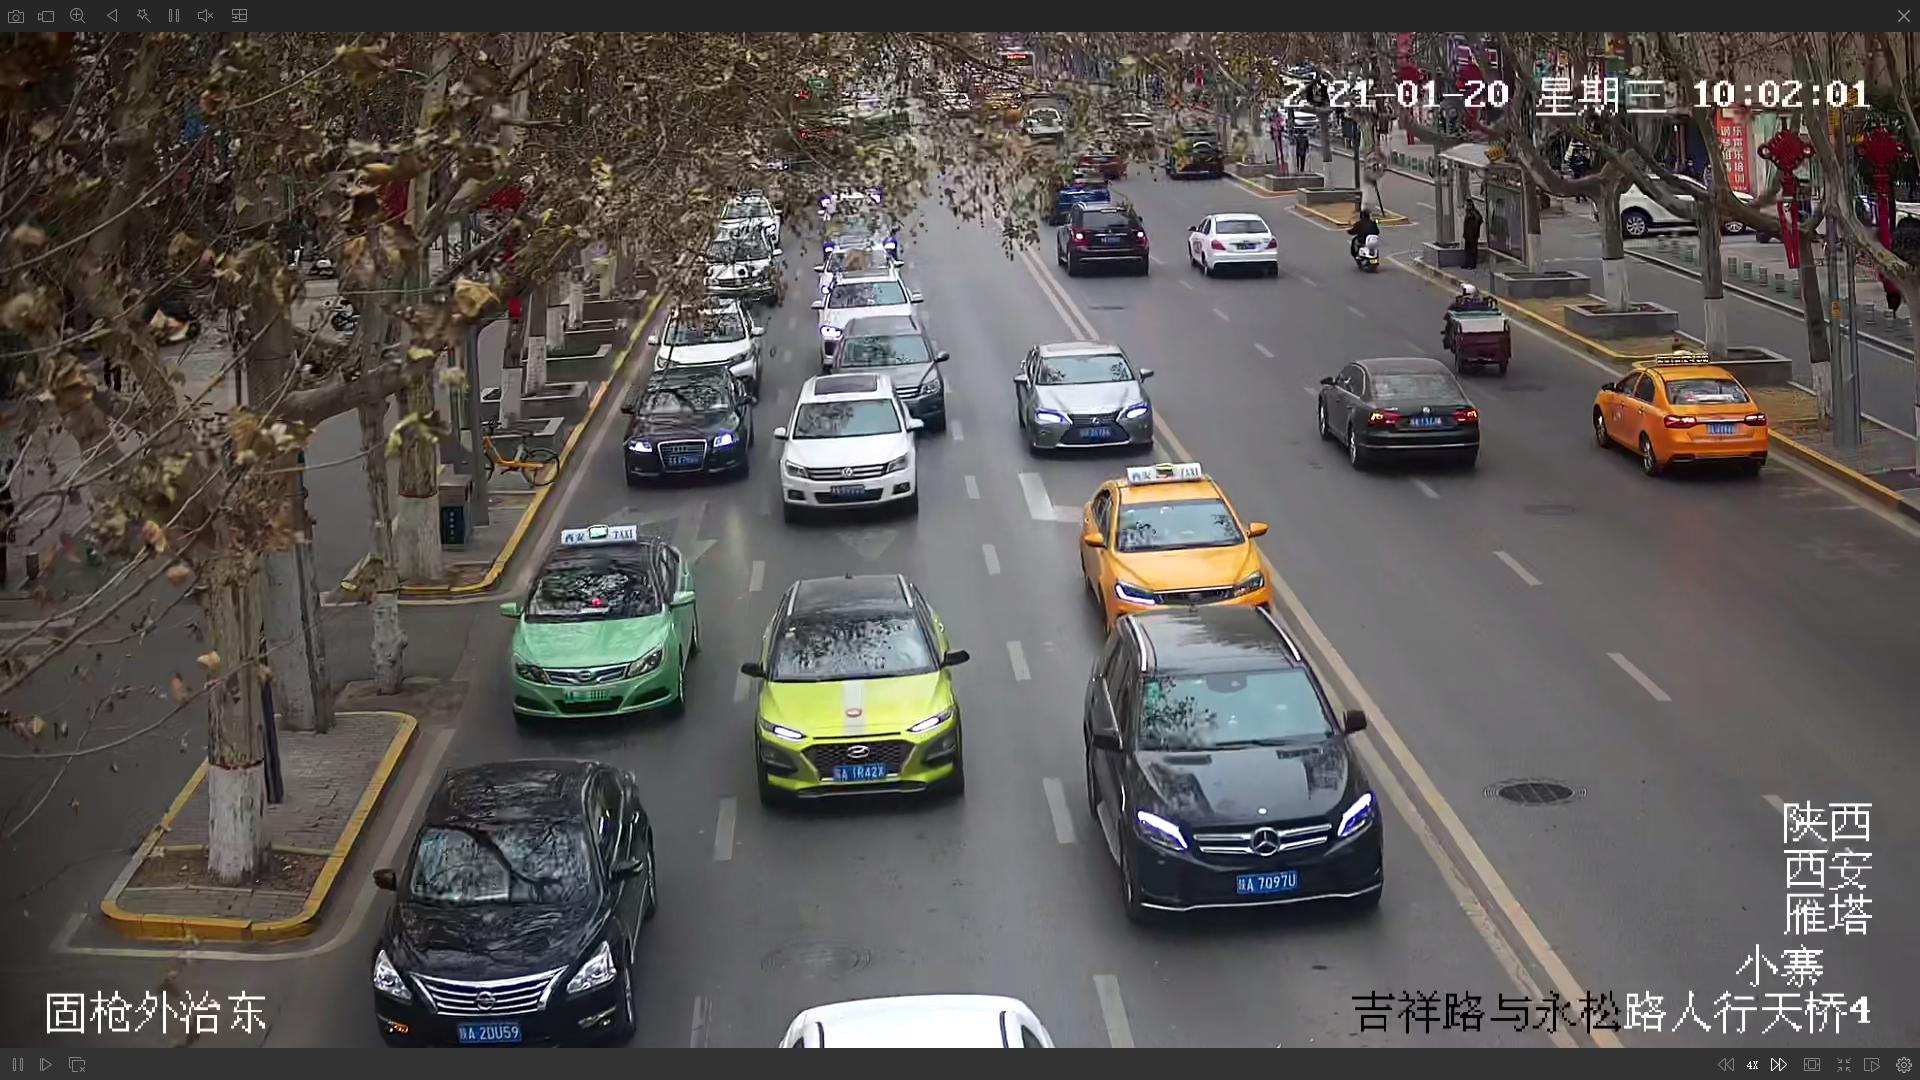black: (1073, 616, 1390, 918), (375, 754, 647, 1039)
grass-green: (742, 574, 959, 800), (504, 526, 694, 723)
